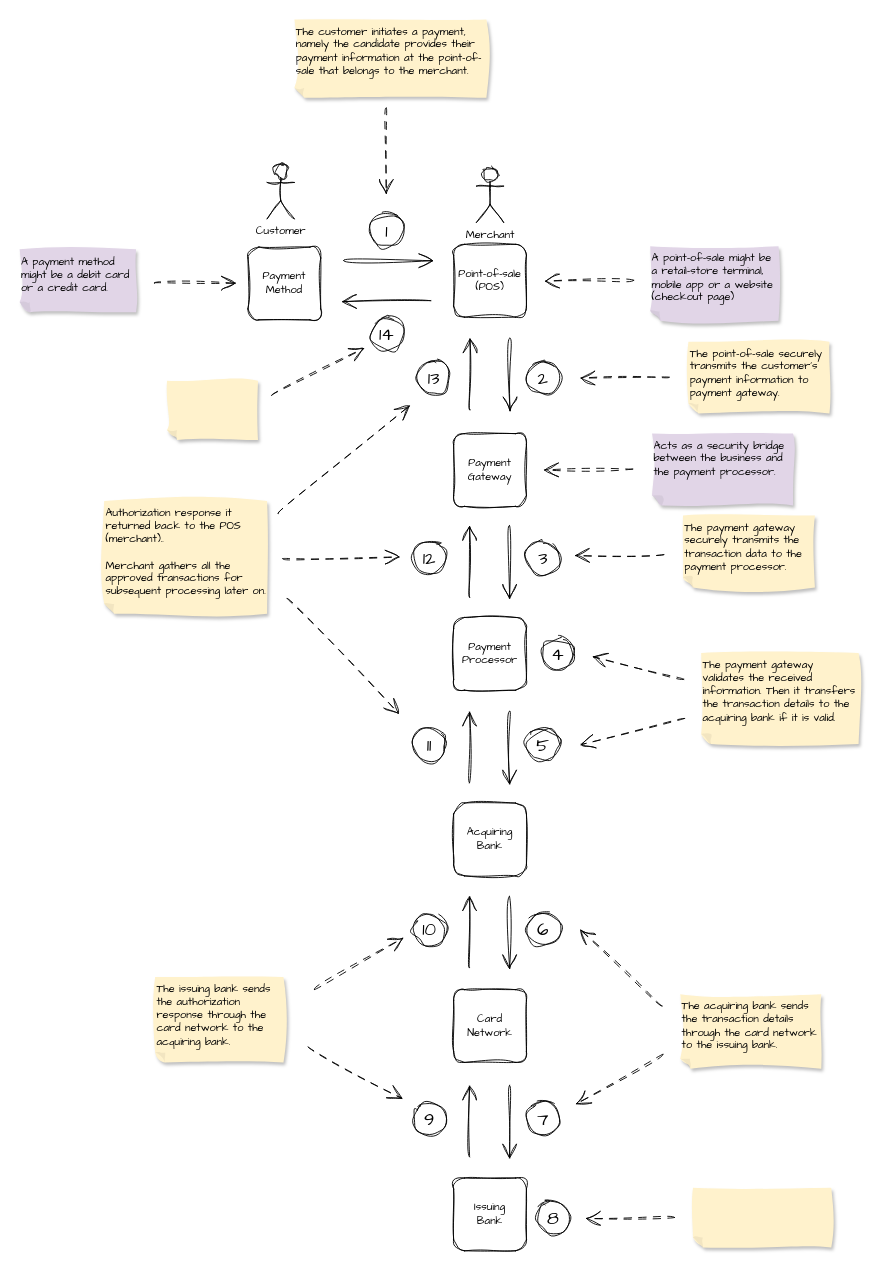
The diagram is 879 pixels wide and 1269 high, and some of its shapes have lost their labels. The centre of each missing label's shape, as x and y in pixels:
"Payment results are displayed to the customer." belongs at (213,411).
"The issuing bank validates and authorizes the transaction." belongs at (762,1218).
